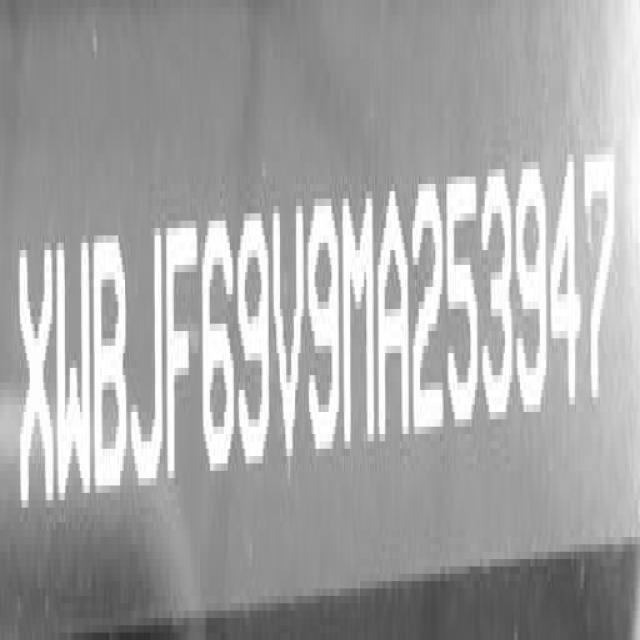2: (412, 172, 446, 448)
3: (481, 160, 515, 426)
4: (548, 148, 582, 420)
5: (448, 169, 482, 436)
6: (202, 205, 238, 480)
7: (586, 137, 621, 422)
9: (238, 212, 274, 480), (306, 193, 342, 452), (516, 160, 550, 426)
A: (375, 182, 410, 450)
B: (95, 235, 129, 508)
F: (166, 219, 198, 497)
J: (133, 223, 166, 501)
M: (343, 180, 379, 458)
V: (272, 210, 308, 468)
W: (54, 232, 92, 514)
X: (18, 232, 56, 523)
